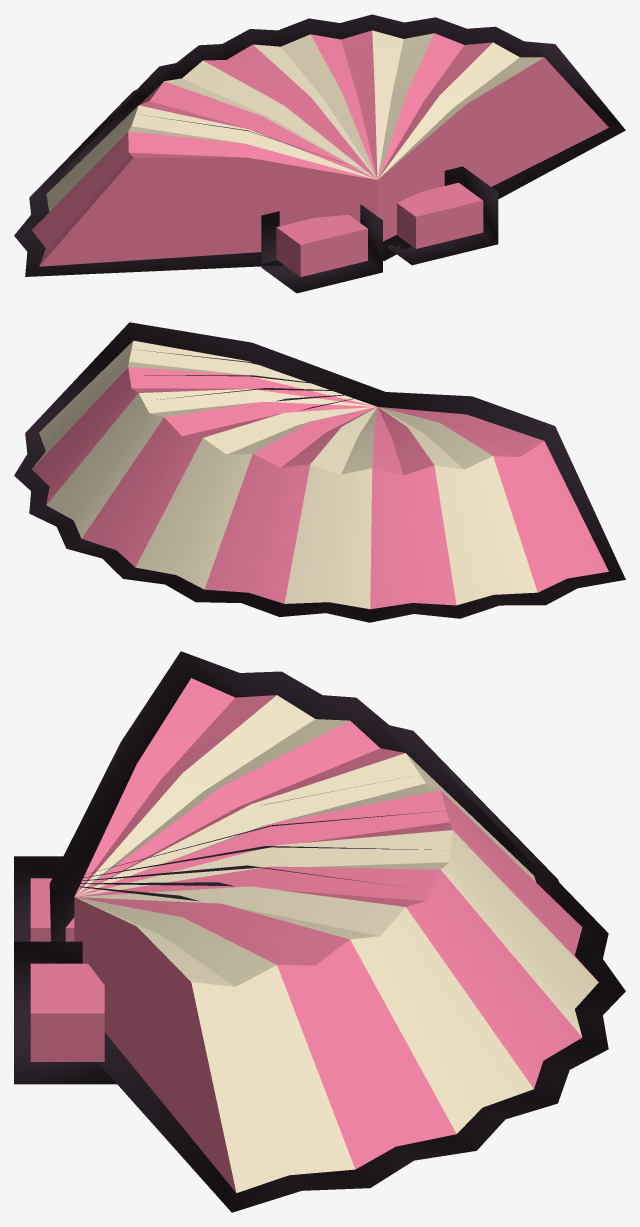
Rendered from SM_Island_Seashell.fbx.
3 views of the same model, one above another, from view 1: azimuth 30°, elevation 25°; view 2: azimuth 150°, elevation 25°; view 3: azimuth 270°, elevation 25° (orthographic). The views are drawn at different scales.
Visible parts, largest first — view 1: SM_Island_Seashell, SM_Island_Seashell_Outline; view 2: SM_Island_Seashell, SM_Island_Seashell_Outline; view 3: SM_Island_Seashell, SM_Island_Seashell_Outline.
Boxes of the visible parts, x1,y1,x2,y2 form: SM_Island_Seashell: (32, 30, 608, 276); SM_Island_Seashell_Outline: (14, 14, 625, 293); SM_Island_Seashell: (32, 340, 608, 609); SM_Island_Seashell_Outline: (14, 322, 625, 622); SM_Island_Seashell: (30, 678, 598, 1192); SM_Island_Seashell_Outline: (14, 651, 625, 1212).
Size of the model in its own units: 0.3128 by 0.0667 by 0.182.
2 materials, 1 textured.
